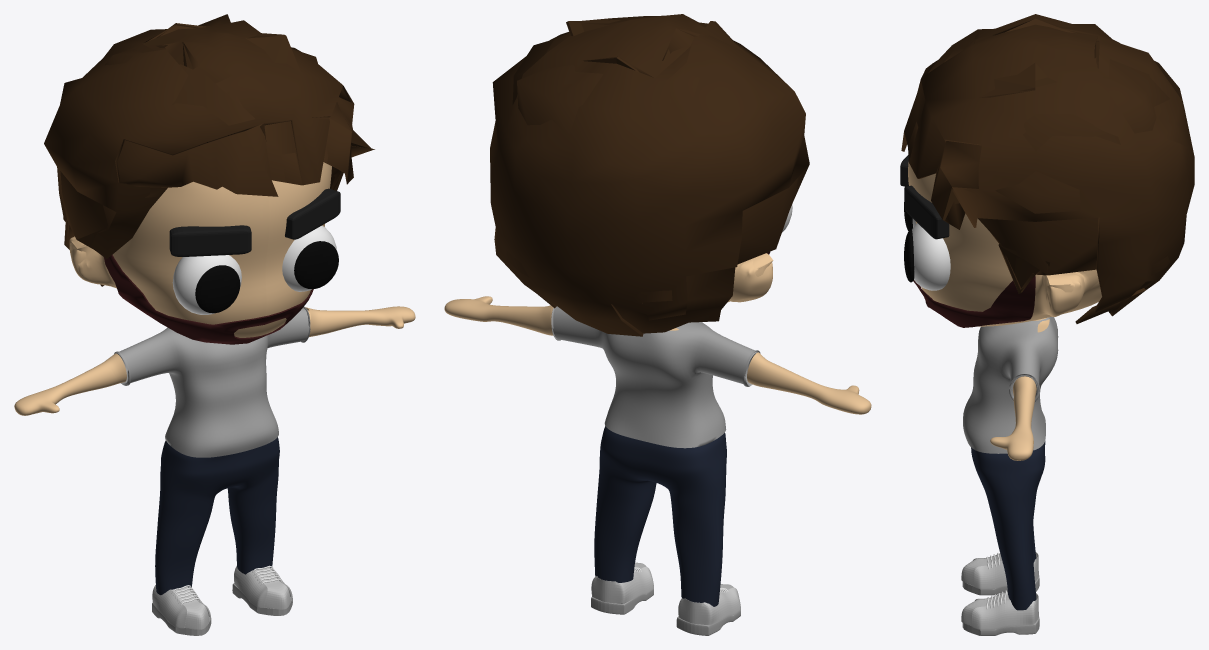
File: char.fbx
3 renders of one model, left to right at view 1: azimuth 30°, elevation 25°; view 2: azimuth 150°, elevation 25°; view 3: azimuth 270°, elevation 25°, orthographic. The views are drawn at different scales.
Visible parts, largest first — view 1: Hair, Cylinder, T-shirt, Pants, beard, EyebrowL, SHOES.002, eyeR.002, pupilR.001, pupilR, EyebrowR, SHOES.001 (+2 smaller); view 2: Hair, Pants, T-shirt, Cylinder, SHOES.002, suelas; view 3: Hair, Cylinder, T-shirt, Pants, beard, SHOES.002, eyeR, EyebrowR, suelas, SHOES.001, pupilR.
Part boxes in pixels (x1,y1,x2,y2): Hair: (44, 14, 374, 286); Cylinder: (14, 162, 415, 415); T-shirt: (114, 306, 310, 457); Pants: (155, 437, 279, 595); beard: (104, 255, 313, 344); EyebrowL: (169, 225, 251, 256); SHOES.002: (152, 565, 292, 628); eyeR.002: (172, 255, 241, 314); pupilR.001: (195, 265, 240, 313); pupilR: (294, 241, 338, 289); EyebrowR: (285, 188, 340, 239); SHOES.001: (171, 567, 290, 629); Hair: (490, 14, 809, 336); Pants: (594, 426, 726, 606); T-shirt: (551, 306, 760, 448); Cylinder: (444, 253, 871, 414); SHOES.002: (591, 566, 740, 625); suelas: (591, 589, 740, 635); Hair: (901, 14, 1194, 323); Cylinder: (908, 162, 1101, 460); T-shirt: (963, 317, 1058, 453); Pants: (971, 441, 1045, 610); beard: (913, 276, 1035, 327); SHOES.002: (972, 552, 1038, 629); eyeR: (912, 223, 950, 290); EyebrowR: (904, 185, 949, 239); suelas: (962, 575, 1039, 635); SHOES.001: (961, 554, 1009, 625); pupilR: (904, 230, 914, 282).
Bounding box in the file's own units: 326 × 443 × 205.
